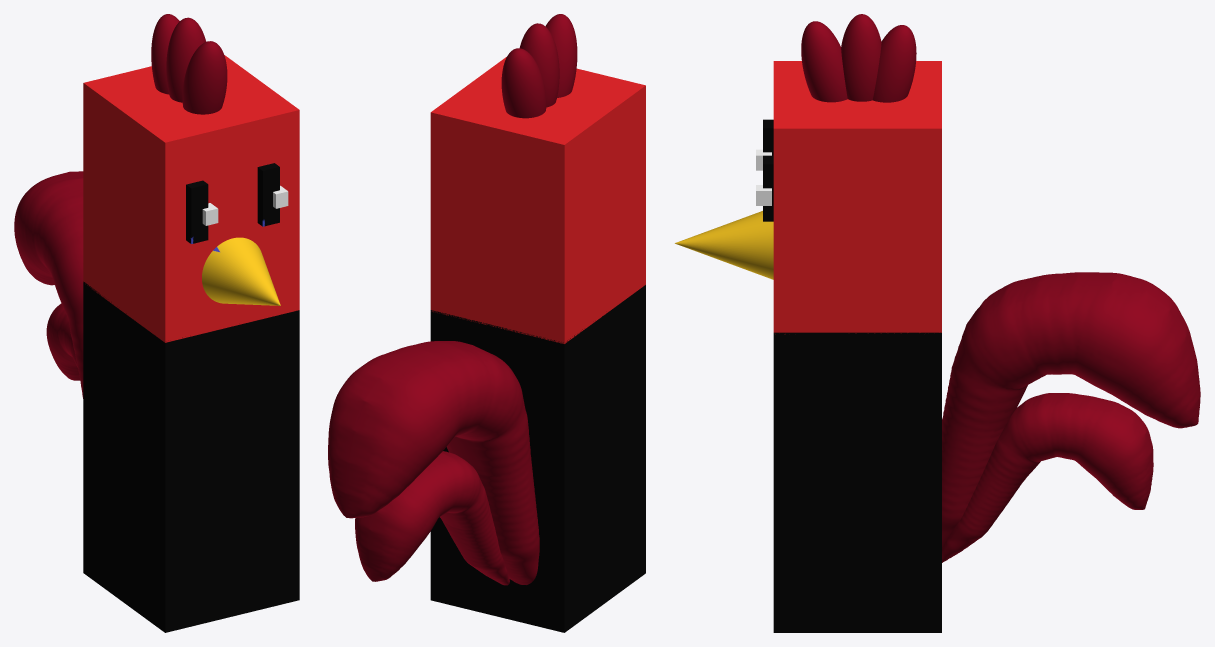
File: Black_Rooster.fbx
3 renders of one model, left to right at view 1: azimuth 30°, elevation 25°; view 2: azimuth 150°, elevation 25°; view 3: azimuth 270°, elevation 25°, orthographic. The views are drawn at different scales.
Visible parts, largest first — view 1: node_id193 (×8), node_id199, node_id202; view 2: node_id193 (×7); view 3: node_id193 (×8).
Part boxes in pixels (x1,y1,x2,y2): node_id193 (×8): [14, 14, 299, 632]; node_id199: [186, 180, 208, 243]; node_id202: [257, 163, 279, 226]; node_id193 (×7): [328, 14, 645, 632]; node_id193 (×8): [675, 14, 1200, 632].
Size of the model in its own units: 0.074 by 0.2979 by 0.2427.
Materials: 9 (9 with a texture image).
